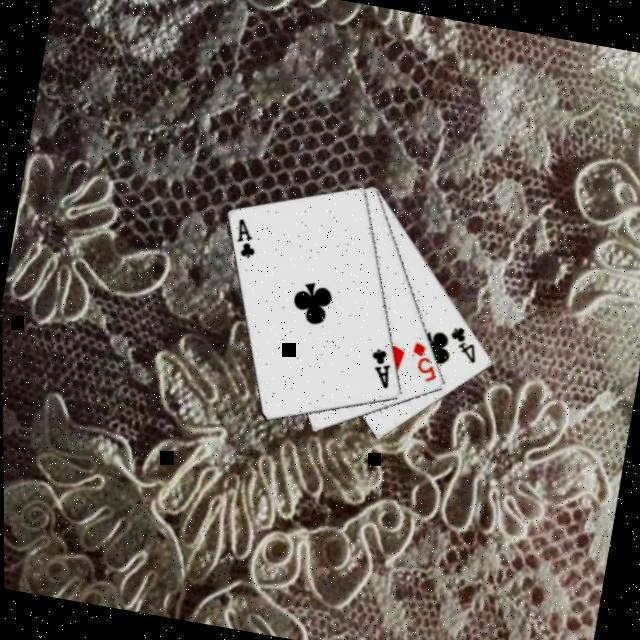4C: (444, 322, 484, 368)
5D: (404, 338, 444, 388)
AC: (362, 345, 398, 393), (230, 215, 263, 263)
